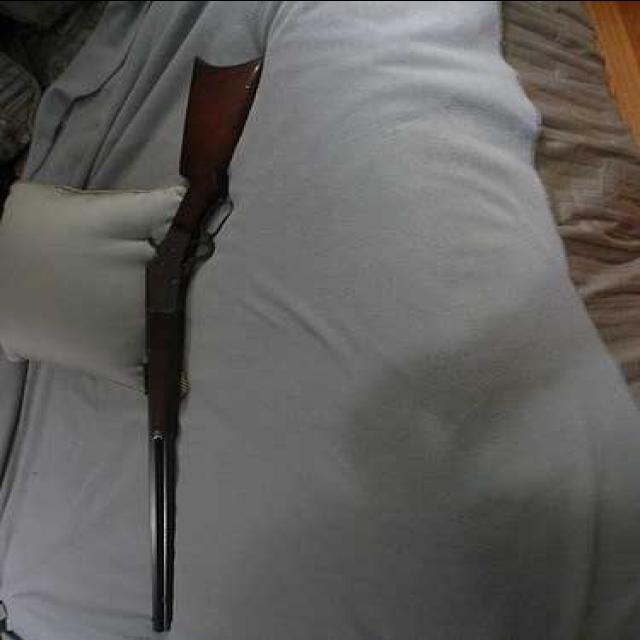heavyweapon: (95, 35, 286, 640)
